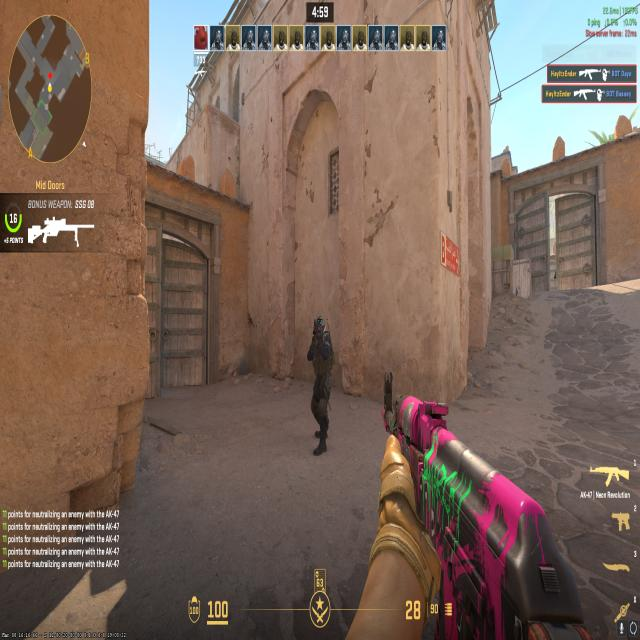ct: (302, 310, 332, 460)
